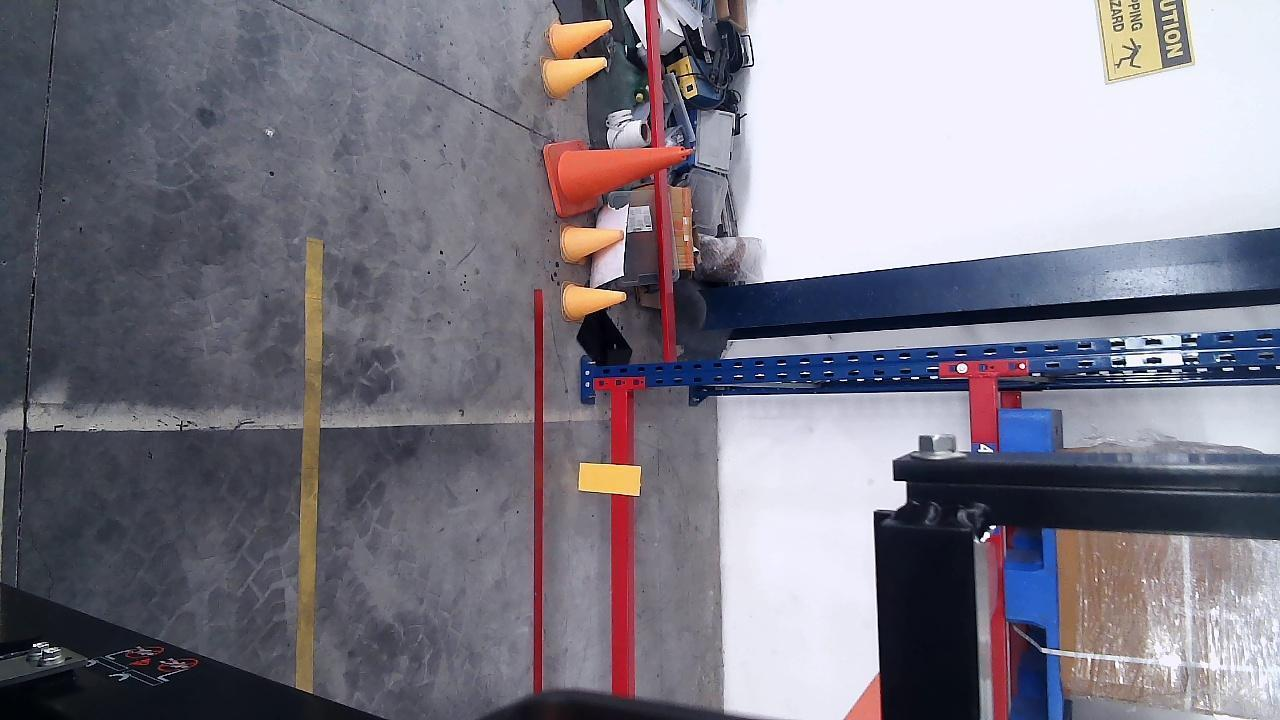red_line: (531, 290, 544, 688)
yellow_line: (295, 239, 324, 694)
